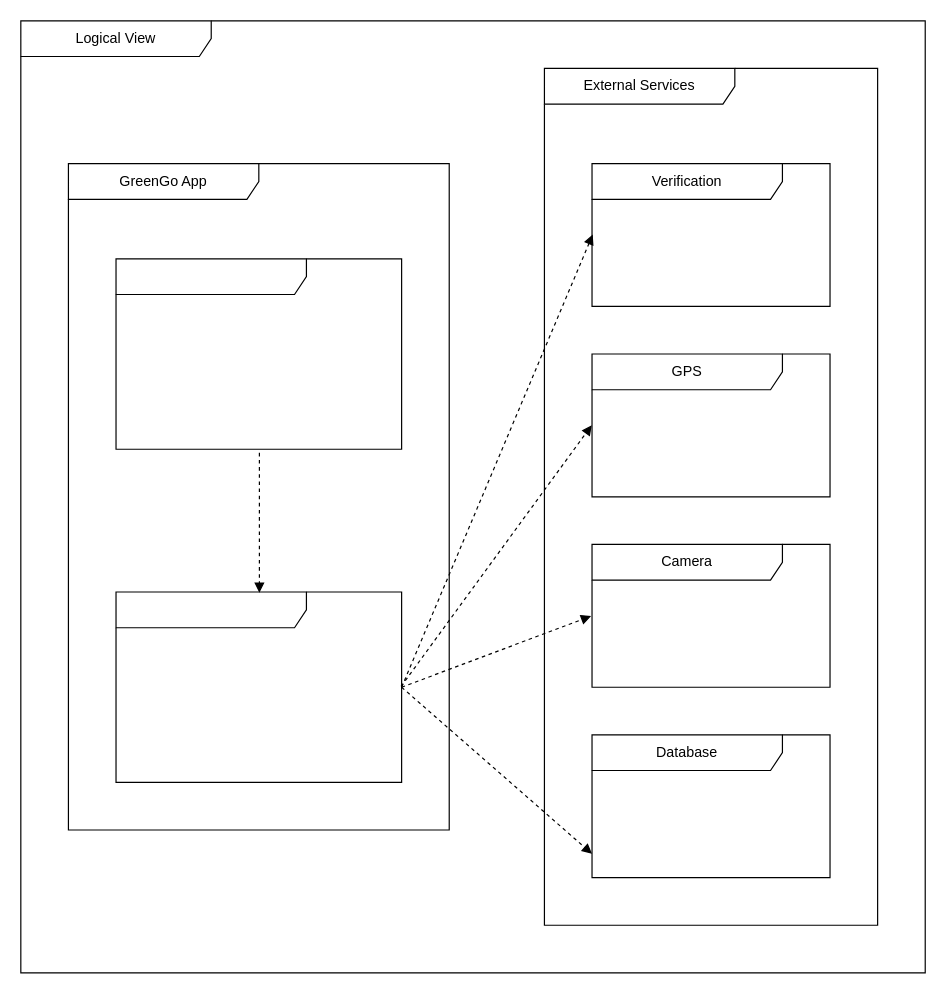
This 946x994 diagram has some shape labels left out. The shapes that lost their labels are listed below. From the top down, each one's centre as x and y in pixels, then its label:
the point at 258,353: App UI
the point at 258,686: Missions & User Logic
